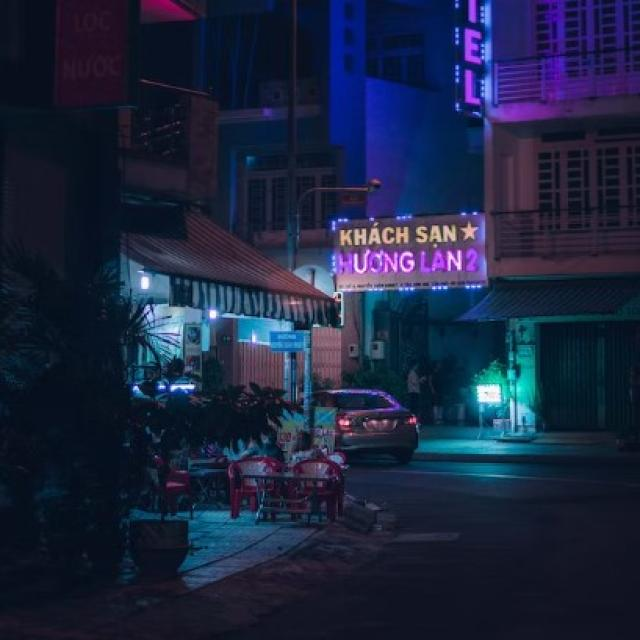car: (286, 385, 421, 469)
